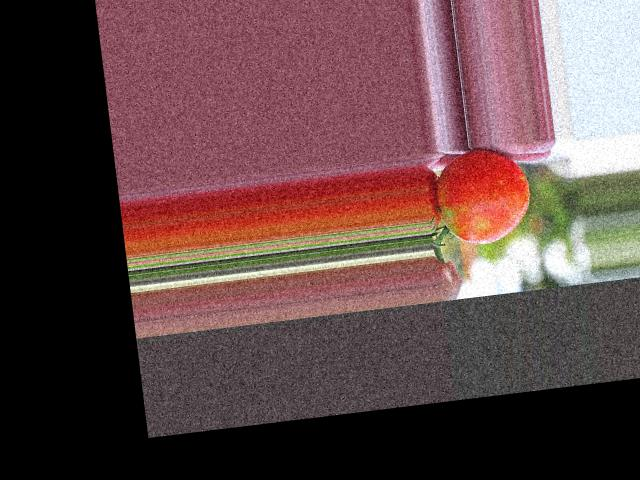tomato: (433, 145, 534, 248)
